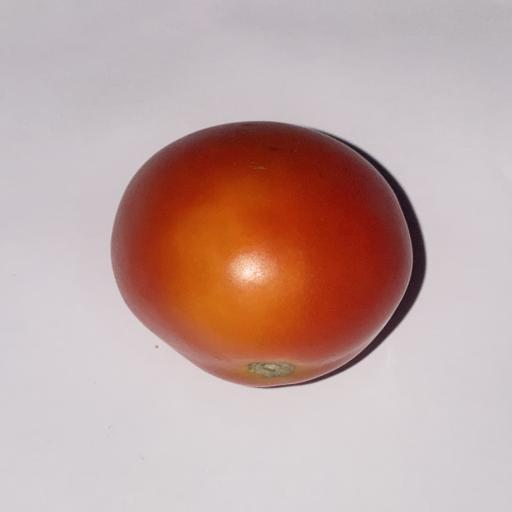ripe: (112, 122, 412, 387)
